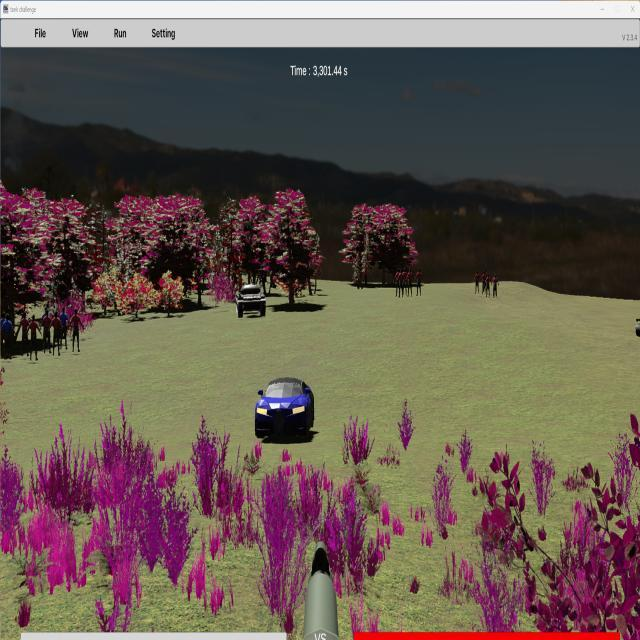Tank: (236, 282, 267, 319), (634, 307, 640, 341)
car: (254, 376, 315, 441)
